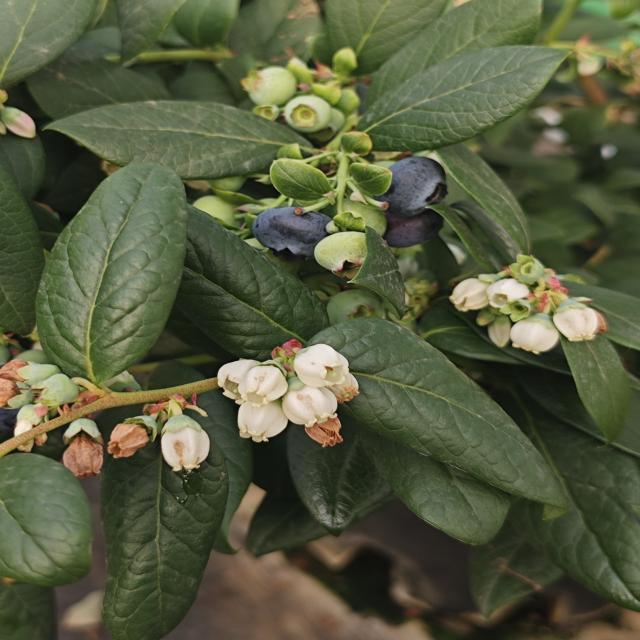ripe: (371, 154, 450, 220), (248, 204, 334, 262), (378, 205, 453, 252)
